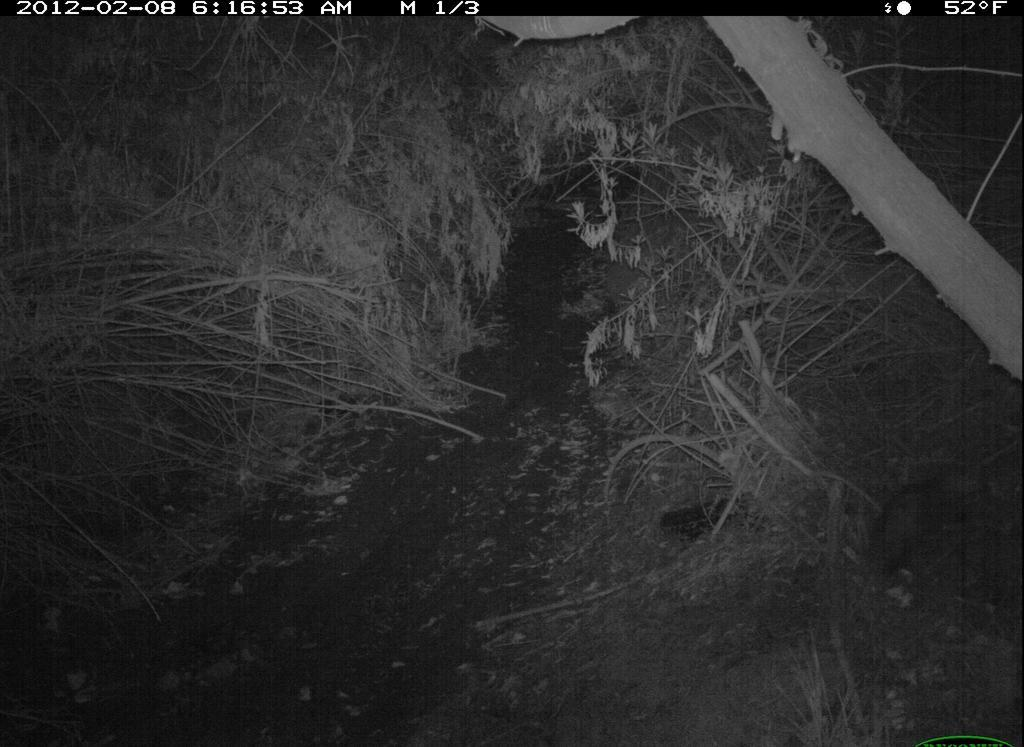opossum: (848, 460, 998, 588)
